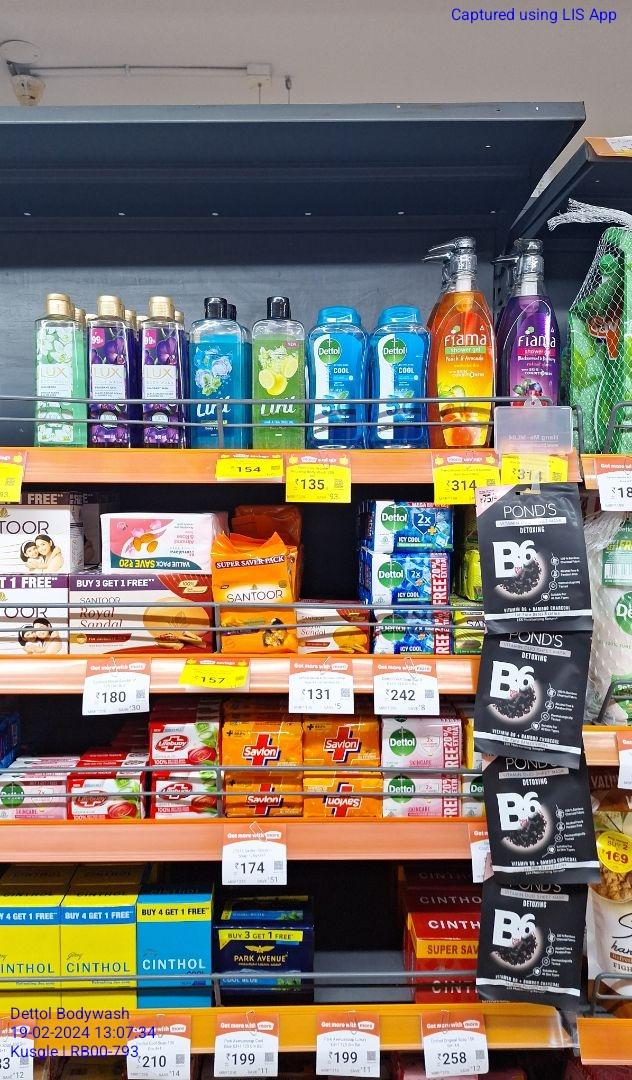Dettol_Bodywash_Cool: (366, 310, 428, 449), (308, 308, 366, 447)
Liril_Cooling_Mint_Body_Wash_250ML: (192, 296, 251, 446)
Liril_Lime_and_Tea_Tree_Oil_Body_Wash_250ML: (251, 300, 309, 447)
Lux_Black_Orchid_Scent_and_Juniper_Oil_Body_Wash_245ML: (90, 293, 145, 444), (141, 295, 185, 447)
Lux_Body_Wash_Skin_Detox_Freesia_Scent_and_Alove_Vera_245ML: (37, 290, 84, 442)
